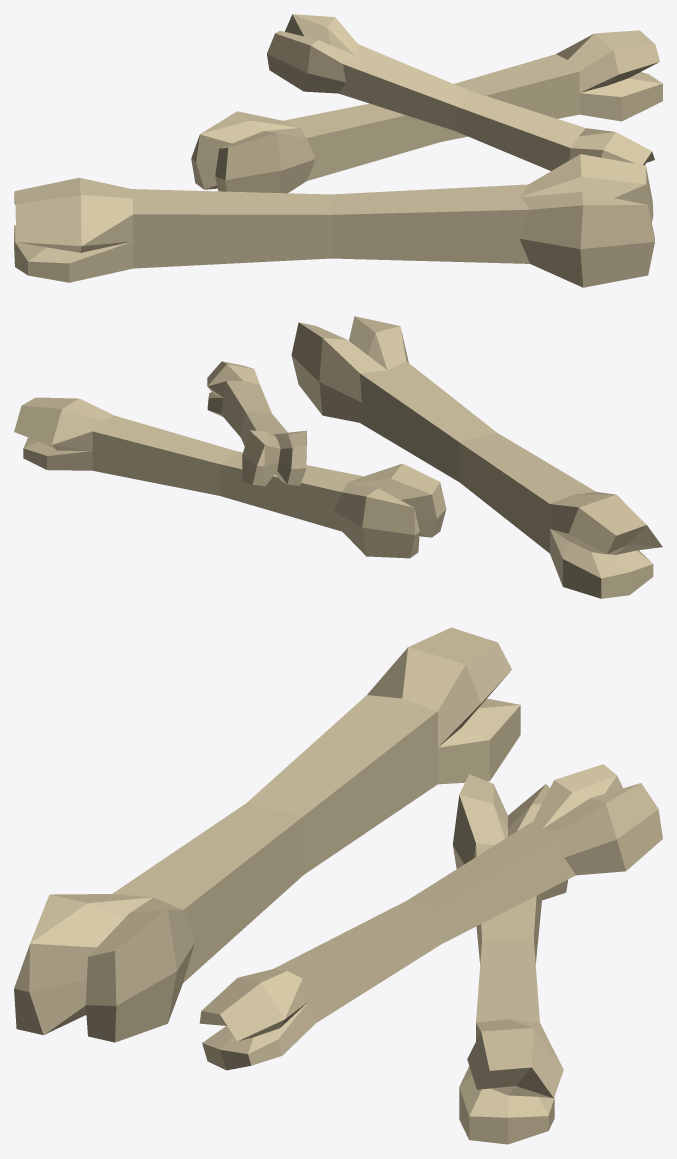
The model's file is BonePile.fbx.
3 views of the same model, one above another, from view 1: azimuth 30°, elevation 25°; view 2: azimuth 150°, elevation 25°; view 3: azimuth 270°, elevation 25° (orthographic). The views are drawn at different scales.
Parts seen in each view (by area): view 1: BonePile; view 2: BonePile; view 3: BonePile.
Boxes of the visible parts, bbox=[...] form: BonePile: bbox=[14, 14, 662, 287]; BonePile: bbox=[14, 316, 662, 598]; BonePile: bbox=[14, 627, 662, 1144].
Size of the model in its own units: 176 by 34.44 by 111.
